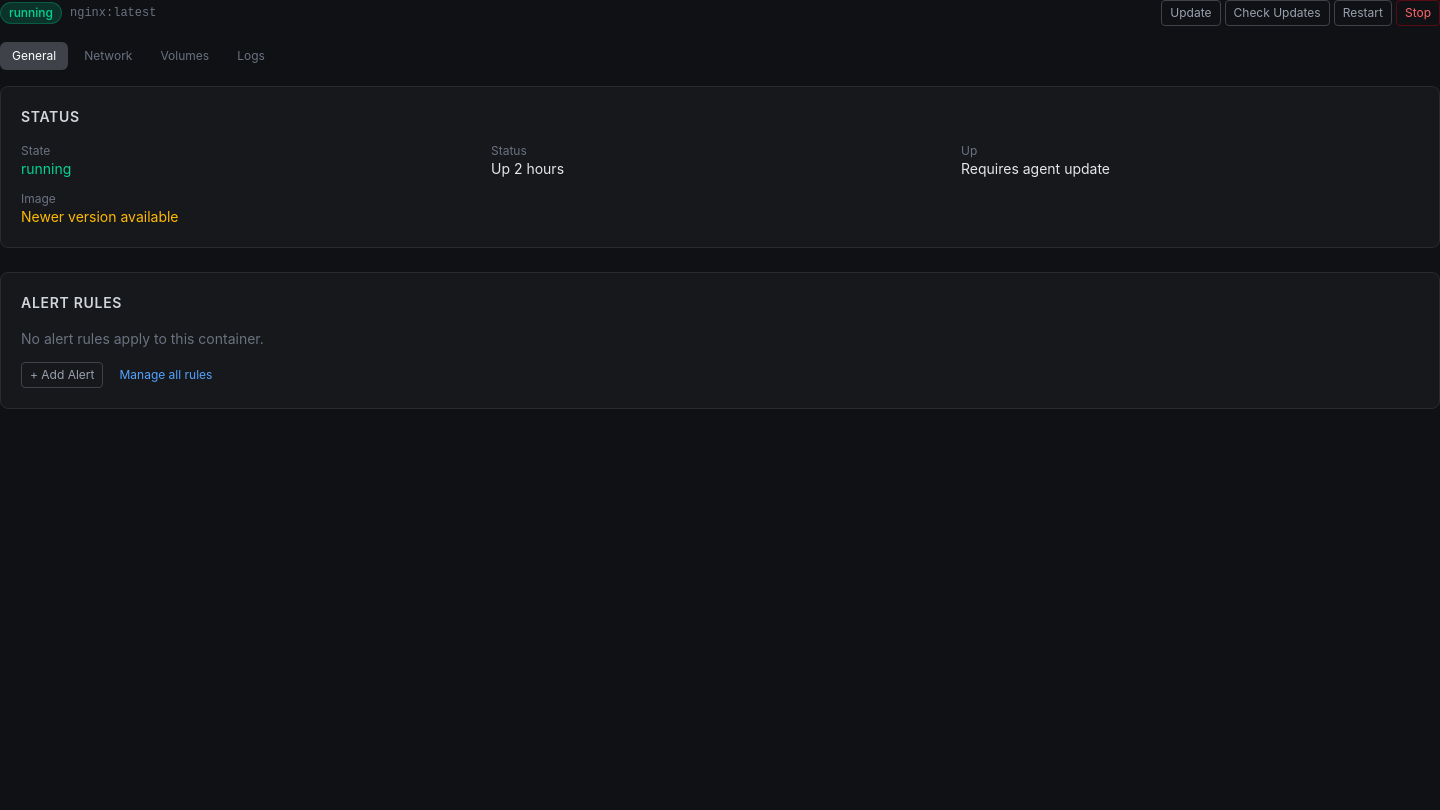
[AC-108] ContainerDetail follows the update by command id through every state and step › is still tracking after 5s and after 30s (no fixed reset timer), re-fetching when pushes stop
Click the button "Update" at (1191, 13), box left=1161, top=0, right=1220, bottom=26
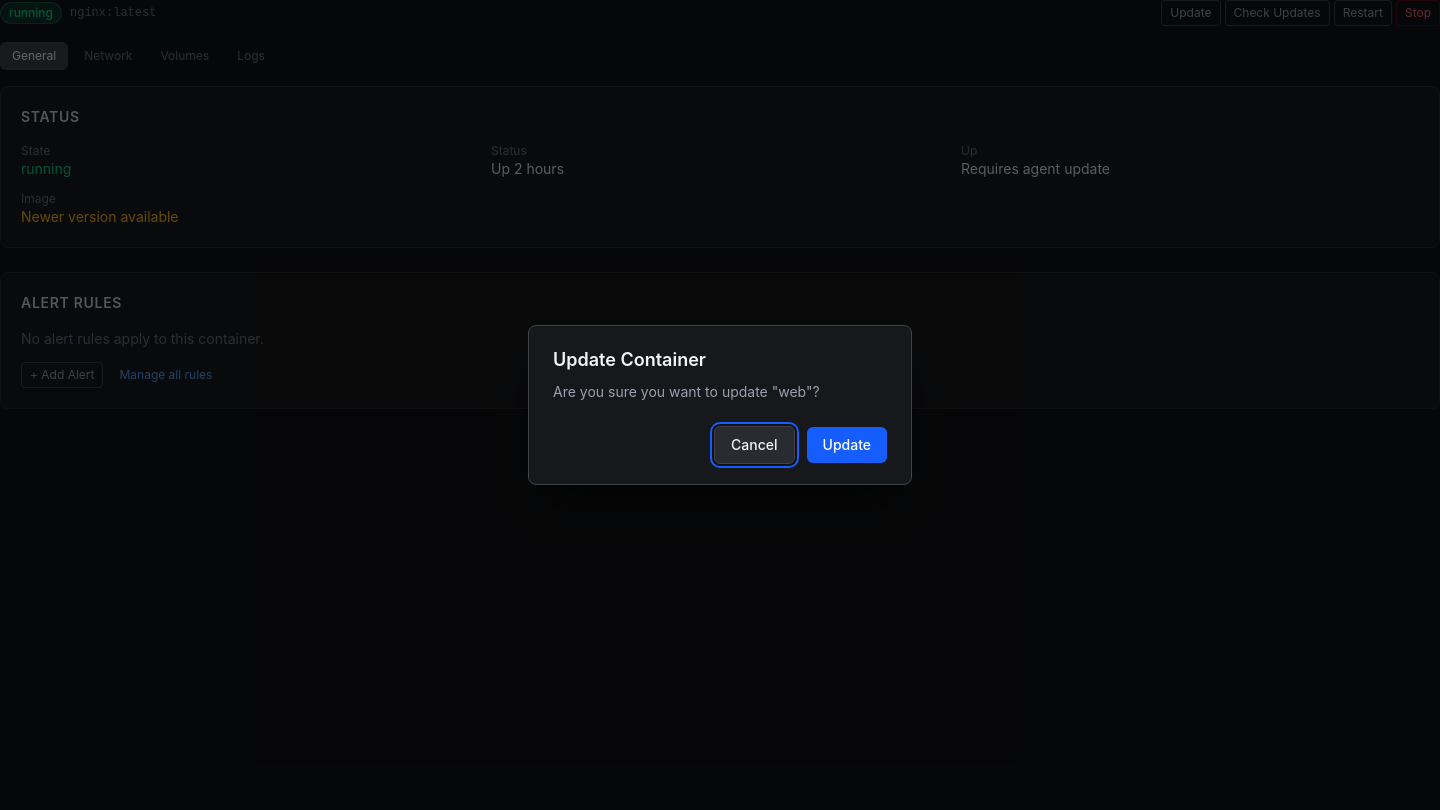
Click the button "Update" at (847, 445), box left=806, top=427, right=887, bottom=463
Wait 30000 ms
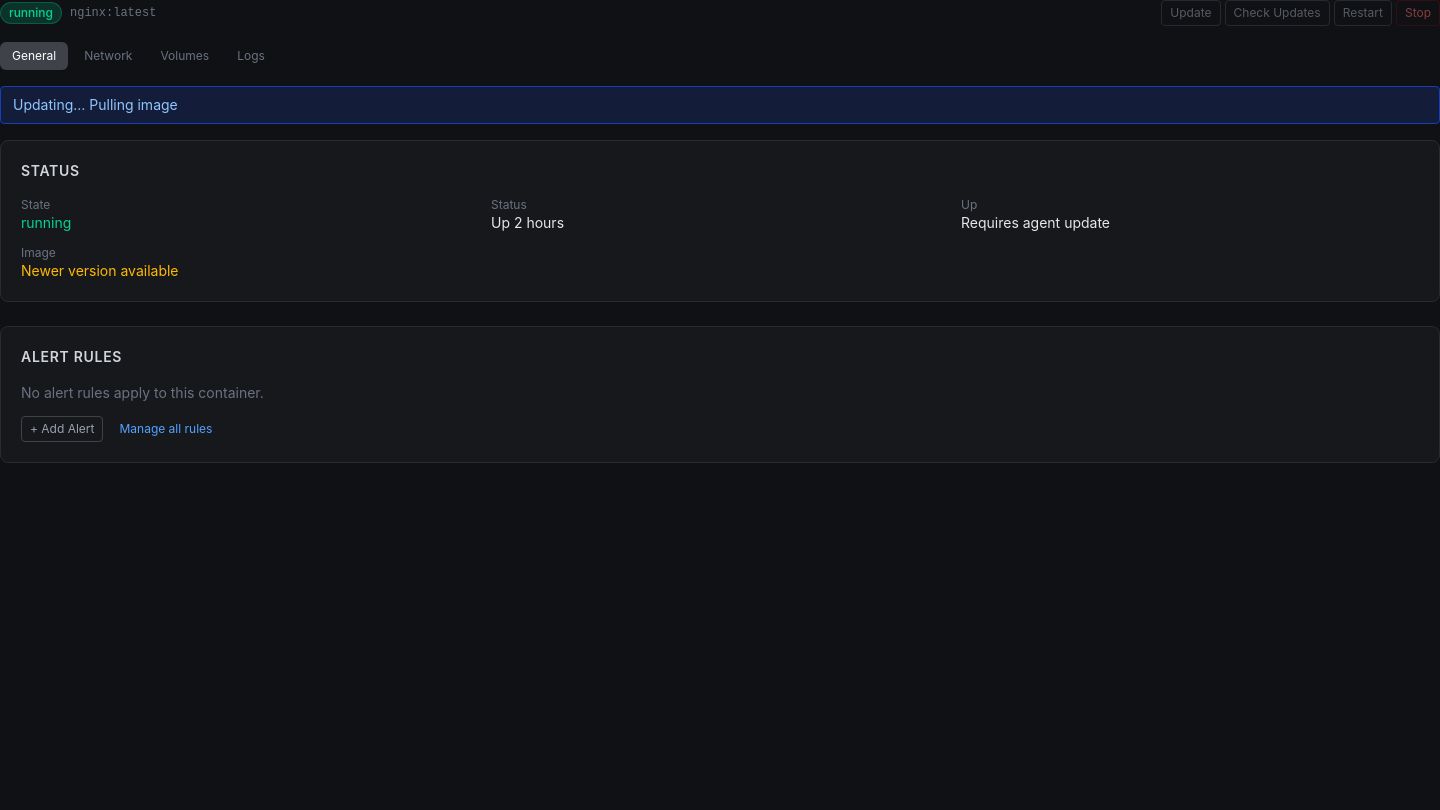
Expected: the message with test id "command-status" reads "Updating… Pulling image", left=13, top=96, right=178, bottom=113
